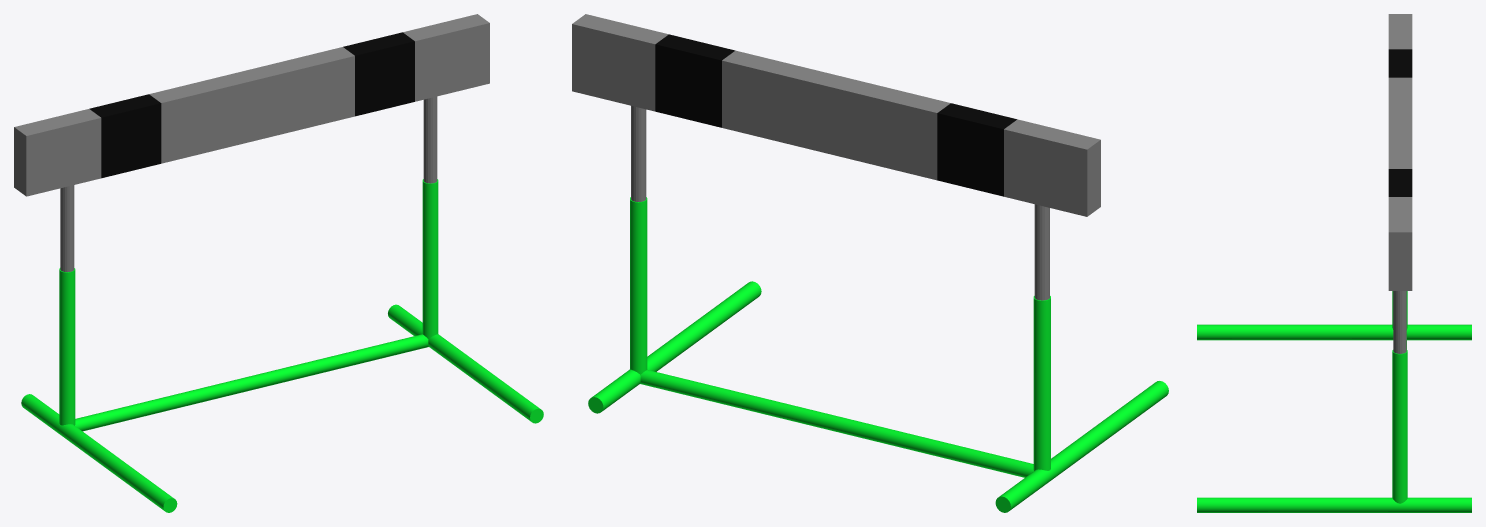
The model's file is hurdle.obj.
3 renders of one model, left to right at view 1: azimuth 30°, elevation 25°; view 2: azimuth 150°, elevation 25°; view 3: azimuth 270°, elevation 25°, orthographic. The views are drawn at different scales.
Visible parts, largest first — view 1: Box001, Cylinder003, Cylinder005, Cylinder004, Cylinder002, Cylinder001; view 2: Box001, Cylinder003, Cylinder004, Cylinder005, Cylinder002, Cylinder001; view 3: Box001, Cylinder002, Cylinder001, Cylinder004.
Boxes of the visible parts, left/top/right/bottom form: Box001: left=14, top=14, right=489, bottom=196; Cylinder003: left=75, top=334, right=428, bottom=431; Cylinder005: left=59, top=185, right=75, bottom=425; Cylinder004: left=422, top=96, right=438, bottom=339; Cylinder002: left=21, top=394, right=177, bottom=512; Cylinder001: left=388, top=304, right=543, bottom=423; Box001: left=572, top=14, right=1100, bottom=216; Cylinder003: left=640, top=370, right=1033, bottom=477; Cylinder004: left=630, top=106, right=647, bottom=374; Cylinder005: left=1033, top=204, right=1050, bottom=470; Cylinder002: left=995, top=381, right=1168, bottom=512; Cylinder001: left=588, top=281, right=761, bottom=413; Box001: left=1388, top=14, right=1412, bottom=290; Cylinder002: left=1197, top=324, right=1471, bottom=340; Cylinder001: left=1197, top=497, right=1471, bottom=512; Cylinder004: left=1392, top=291, right=1407, bottom=503.
Size of the model in its own units: 698834 by 453823 by 371310.
